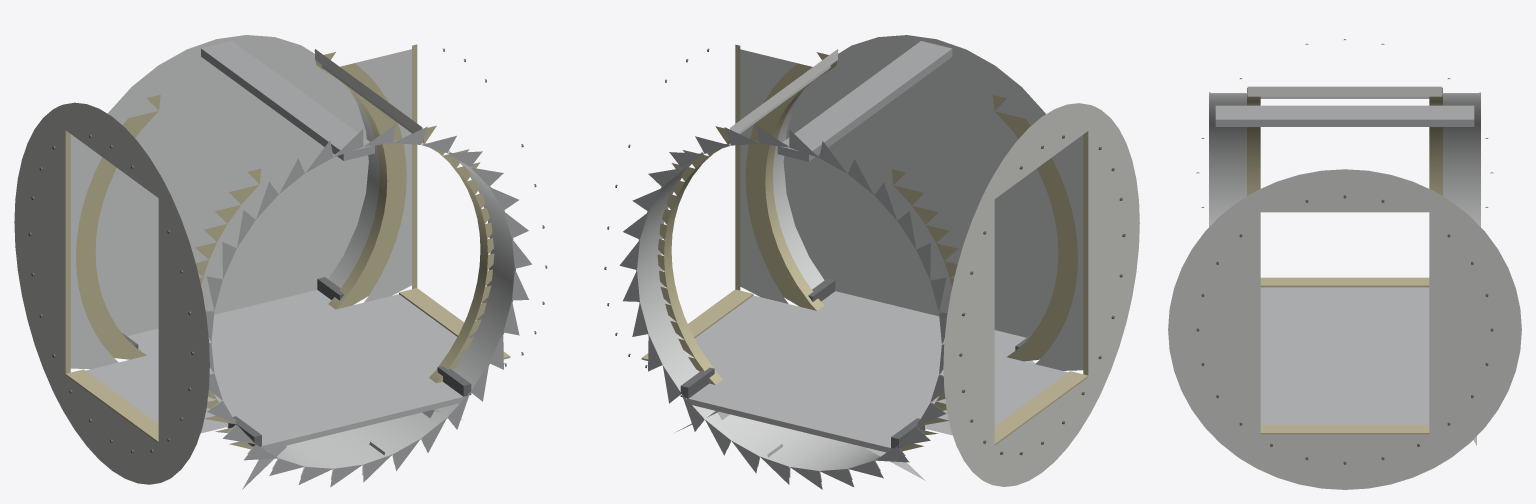
The model's file is habSegJLRbf_steel_meshin.glb.
3 renders of one model, left to right at view 1: azimuth 30°, elevation 25°; view 2: azimuth 150°, elevation 25°; view 3: azimuth 270°, elevation 25°, orthographic. The views are drawn at different scales.
Parts seen in each view (by area): view 1: habSegJLRbf_steel_meshin; view 2: habSegJLRbf_steel_meshin; view 3: habSegJLRbf_steel_meshin.
Part boxes in pixels (left/top/right/bottom): habSegJLRbf_steel_meshin: left=14, top=35, right=547, bottom=489; habSegJLRbf_steel_meshin: left=604, top=35, right=1139, bottom=489; habSegJLRbf_steel_meshin: left=1168, top=39, right=1521, bottom=489.
Bounding box in the file's own units: 2.72 × 2.6 × 2.6.
